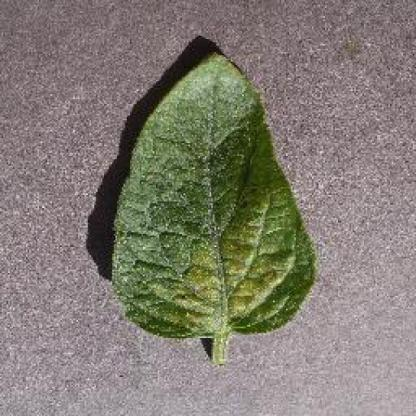Tomato_Spider_Mites: (112, 53, 314, 338)
